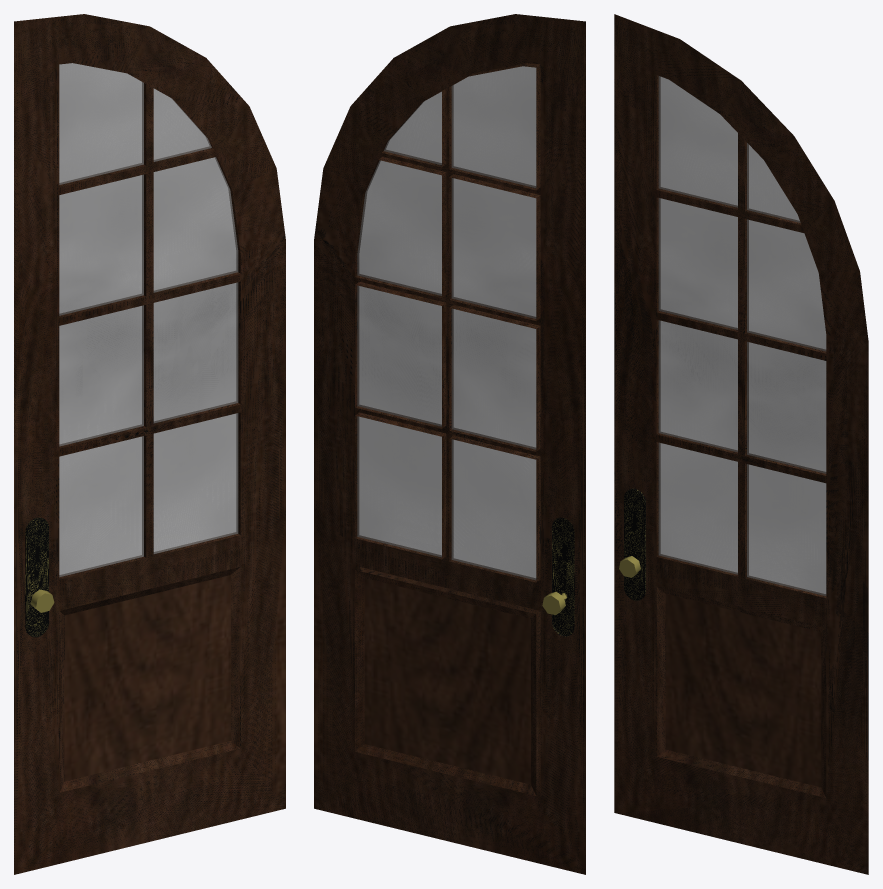
Rendered from door right.fbx.
3 views of the same model, side by side, from view 1: azimuth 30°, elevation 25°; view 2: azimuth 150°, elevation 25°; view 3: azimuth 330°, elevation 25° (orthographic). The views are drawn at different scales.
Visible parts, largest first — view 1: Model; view 2: Model; view 3: Model.
Part boxes in pixels (bbox=[...]): Model: bbox=[14, 14, 285, 874]; Model: bbox=[314, 14, 585, 874]; Model: bbox=[614, 14, 868, 874].
Size of the model in its own units: 36 by 108 by 4.65.
